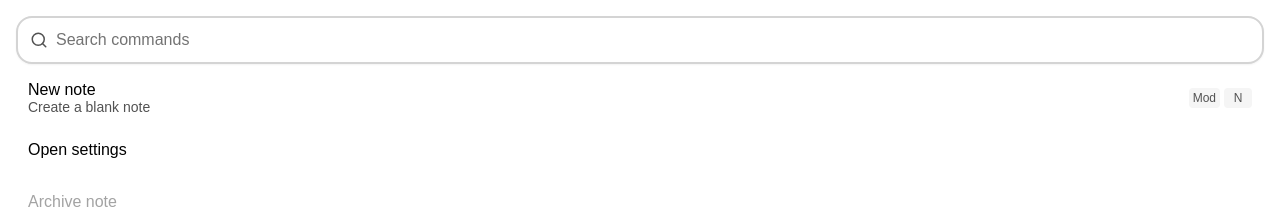
Test: Command filtering and navigation › uses a custom filter when provided
Type "archive" into the dropdown at coordinates (653, 40), box left=56, top=20, right=1250, bottom=60
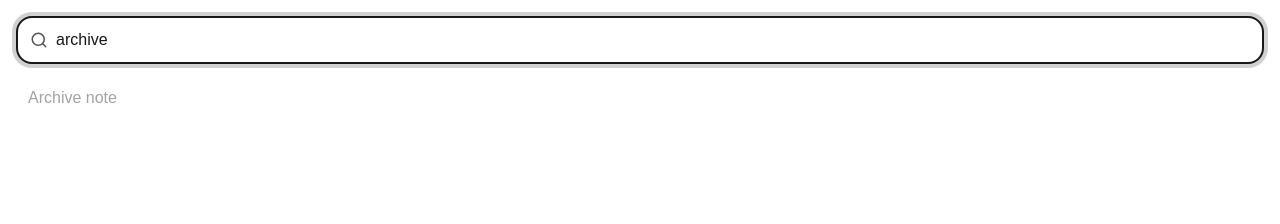
Expected: the option "New note" is gone
